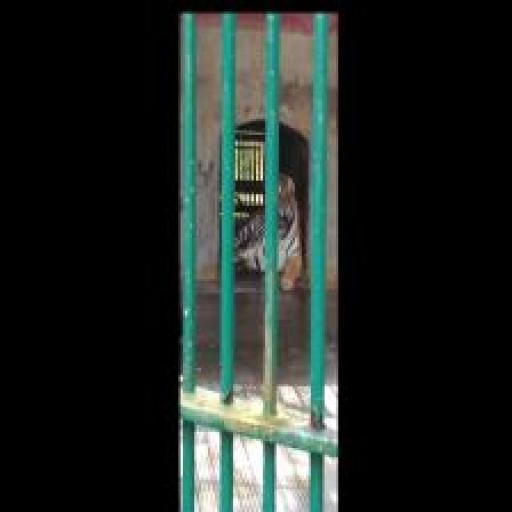Tiger: (233, 172, 305, 292)
